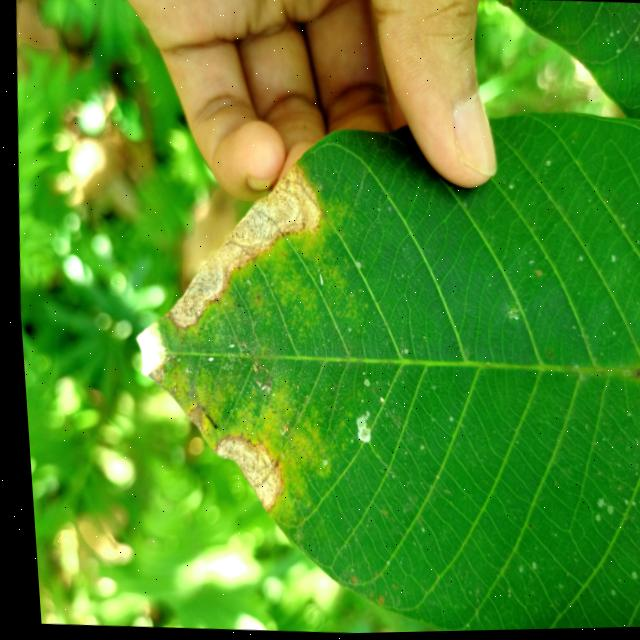Corynespora: (624, 365, 640, 385)
Leaf-Blight: (155, 155, 330, 338), (203, 433, 281, 514), (128, 320, 165, 384)
